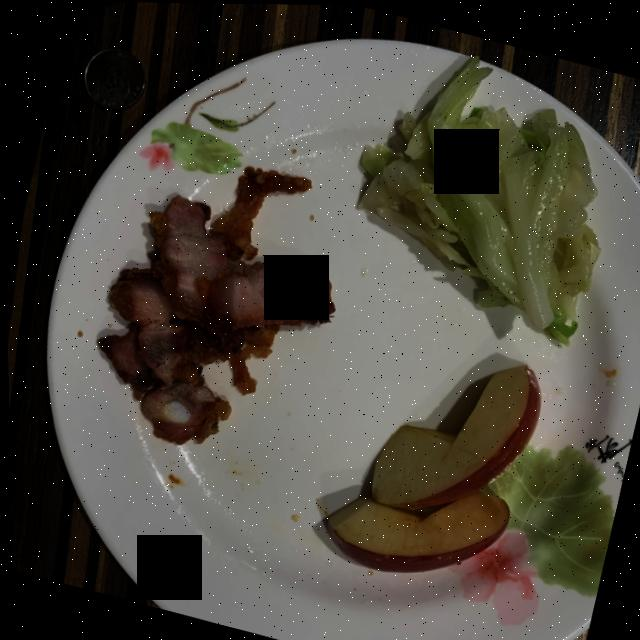apple -sliced-: (324, 363, 538, 571)
cabbage: (357, 55, 598, 343)
coin: (82, 47, 143, 109)
red grilled pork: (95, 166, 331, 443)
